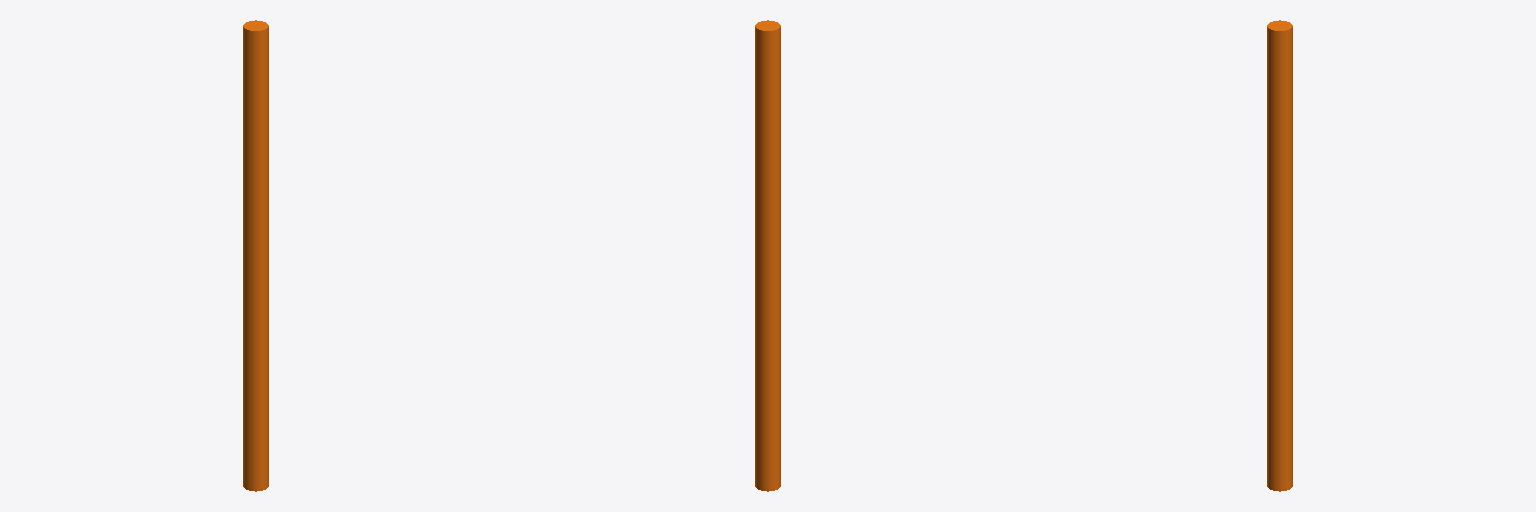
robot.urdf — pendulum:
<?xml version="1.0" ?>

<robot name="pendulum">
    
    <material name="industrial-blue">
        <color rgba="0.113725 0.3450980 0.654901 1" />
    </material>
    
    <material name = "heritage-orange">
        <color rgba = "0.96078 0.50980 0.11764 1" />
    </material>
    
        
    <link name="chassis">
        <visual>
            <origin rpy="0 0 0" xyz="0 0 0"/>
            <geometry>
                  <mesh filename="cube.stl" scale="0.1 0.1 0.1"/>
            </geometry>
            <material name = "industrial-blue"/>
        </visual>
        <inertial>
            <origin rpy="0 0 0" xyz="0 0 0"/>
            <mass value="1000.0"/>
            <inertia ixx="1000.0" ixy="0" ixz="0" iyy="1000.0" iyz="0" izz="1000.0"/>
        </inertial>
    </link>
    
    <link name="arm">
        <visual>
            <origin rpy="0 0 0" xyz="0 0 0"/>
            <geometry>
                <mesh filename="cylinder_lower_origin.stl" scale="0.05 0.05 1.0"/>
            </geometry>
            <material name = "heritage-orange"/>
        </visual>
        <inertial>
            <origin rpy="0 0 0" xyz="0 0 0"/>
            <mass value="0.0"/>
            <inertia ixx="0" ixy="0" ixz="0" iyy="0" iyz="0" izz="0"/>
        </inertial>
    </link>
    
    <link name="mass">
        <visual>
            <origin rpy="0 0 0" xyz="0 0 0"/>
            <geometry>
                <mesh filename="sphere.stl" scale="0.2 0.2 0.2"/>
            </geometry>
            <material name = "heritage-orange"/>
        </visual>
        <inertial>
            <origin rpy="0 0 0" xyz="0 0 0"/>
            <mass value="1.0"/>
            <inertia ixx="0" ixy="0" ixz="0" iyy="0" iyz="0" izz="0"/>
        </inertial>
    </link>
    
    <joint name="chassis_to_arm" type="continuous">
        <parent link = "chassis" />
        <child link = "arm" />
        <origin rpy="0 0 0" xyz = "0 0 0" />
        <axis xyz = "0 -1 0" />
    </joint>
    
    <joint name="arm_to_mass" type="fixed">
        <parent link = "arm" />
        <child link = "mass" />
        <origin rpy="0 0 0" xyz = "0 0 1.0" />
    </joint>

</robot>

--- Facts derived from the render (not from the file) ---
Views: 3 orthographic renders of the robot side by side, from view 1: azimuth 30°, elevation 25°; view 2: azimuth 150°, elevation 25°; view 3: azimuth 270°, elevation 25°.
Robot: pendulum — 3 links, 2 joints (1 continuous, 1 fixed); root link chassis; default pose: every joint at zero.
Visible links, largest first — view 1: arm; view 2: arm; view 3: arm.
Link boxes in pixels (left/top/right/bottom): arm: left=243, top=20, right=268, bottom=491; arm: left=755, top=20, right=780, bottom=491; arm: left=1267, top=20, right=1292, bottom=491.
Size in the robot's own frame: 0.05 by 0.05 by 1 metres.
1 mesh visuals loaded from 3 distinct referenced files (1 binary STL); not drawn: 2 (reference not matched to a file when rendering).